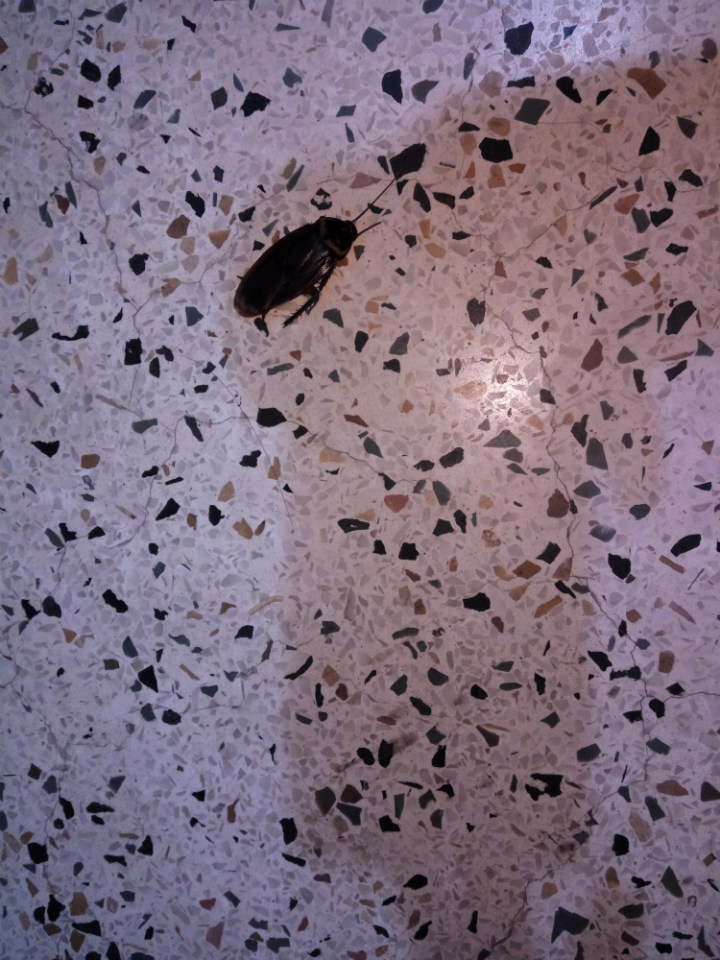cockroach: (160, 150, 471, 378)
